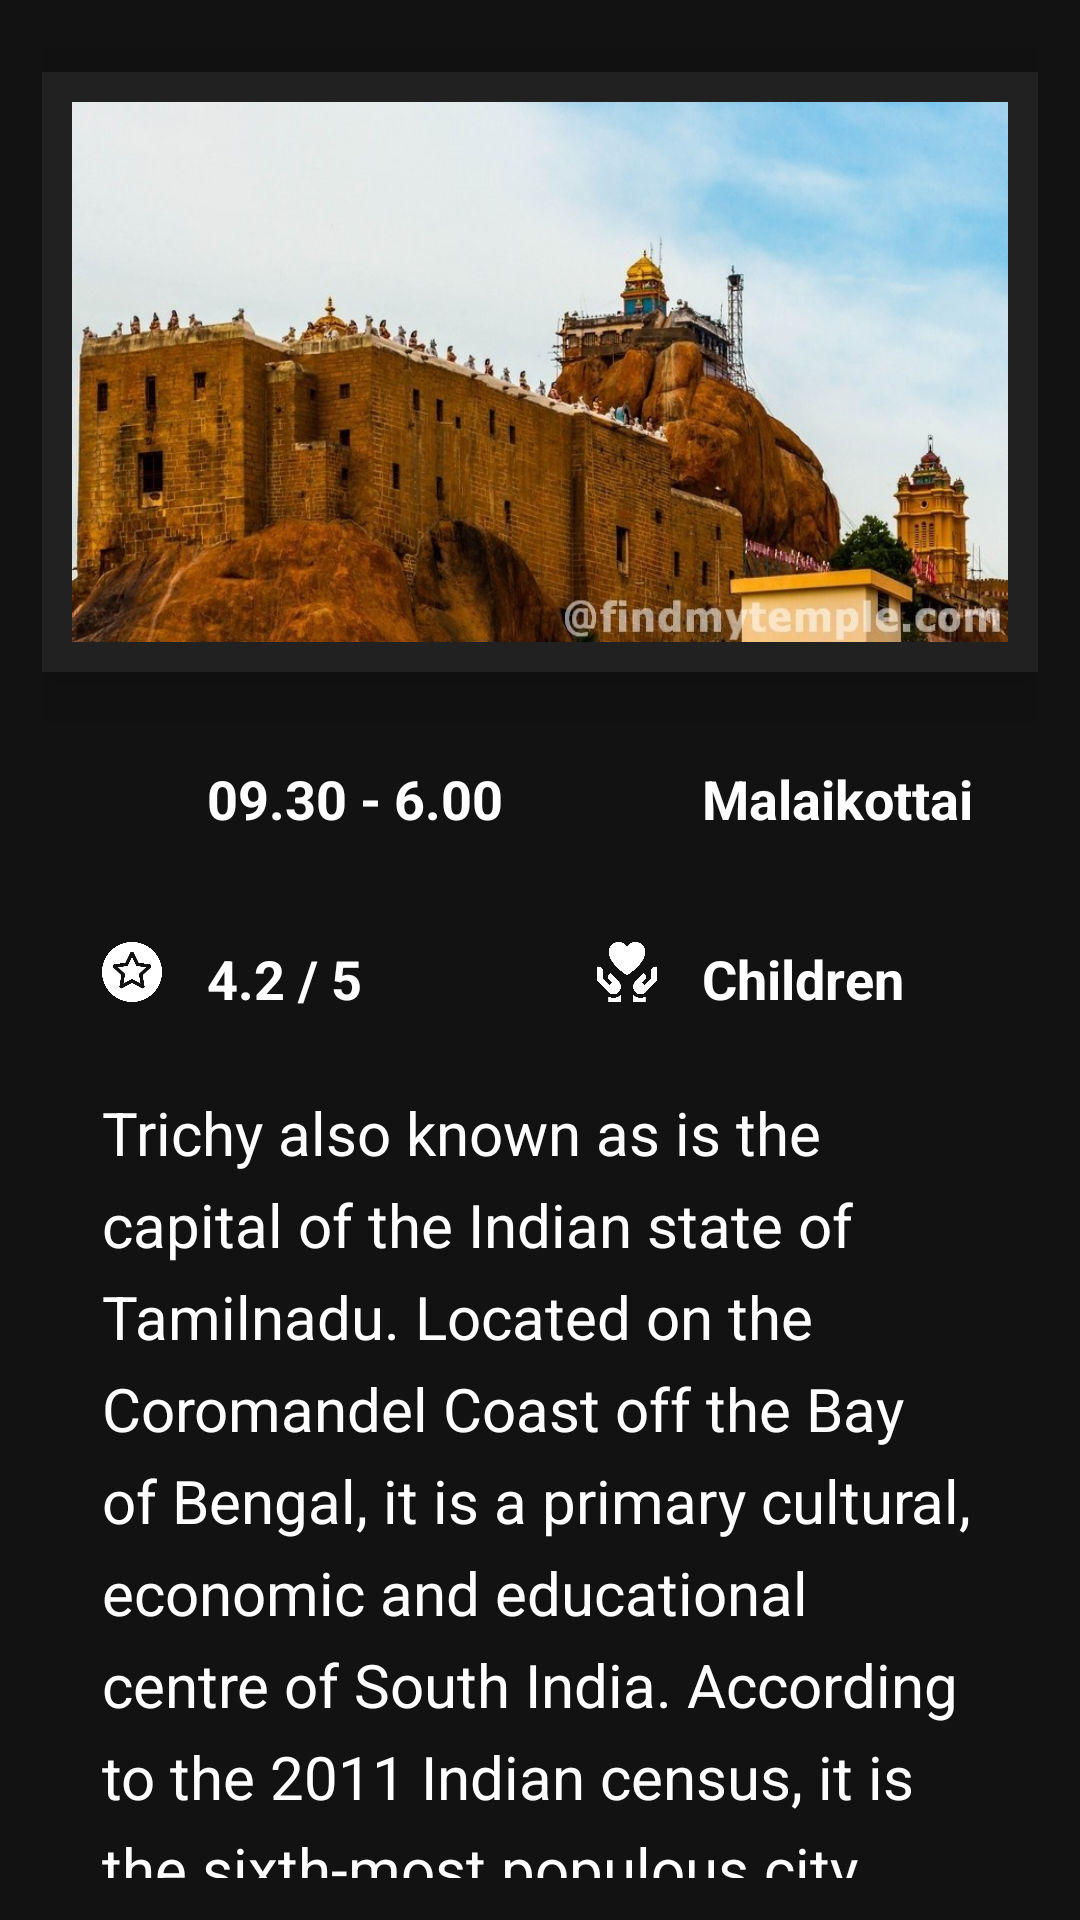

Named icons in this screenshot (1080w x 1920h) and their bounding boxes, (x1, y1, x2, y2):
rating: (102, 942, 162, 1002)
